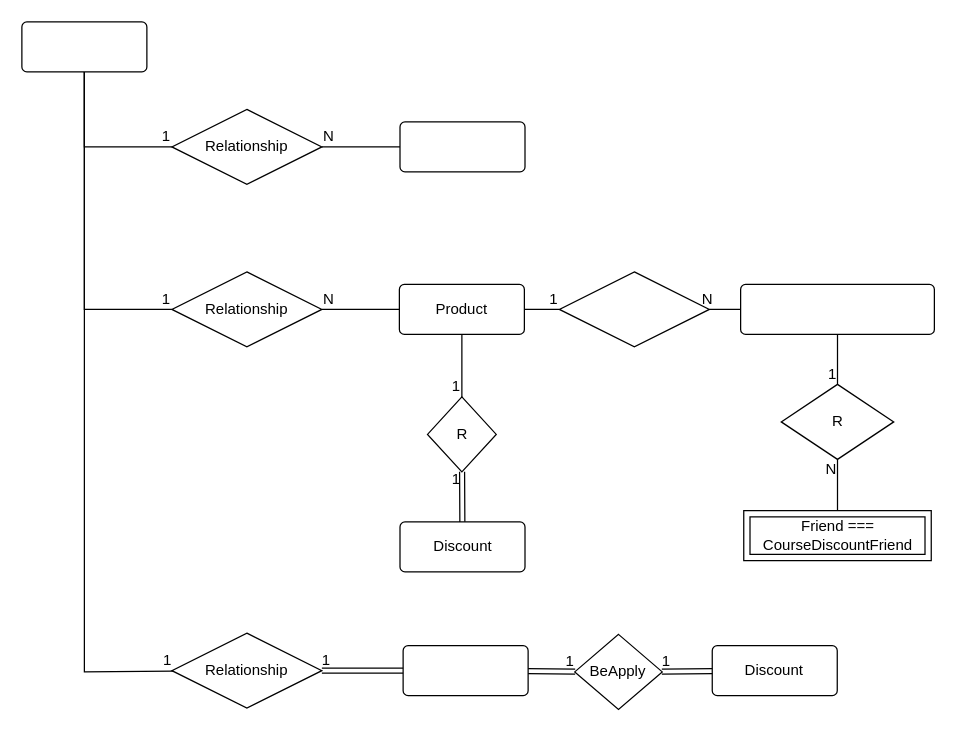
The diagram is 956 pixels wide and 731 high, and some of its shapes have lost their labels. Here are the shapes that lost their labels. From the top down, the centre of each, then its label:
the point at 84,46: Store
the point at 462,146: SaleFlow
the point at 633,309: ToHave
the point at 836,308: ProductFriendDiscount
the point at 465,670: ّFestival
